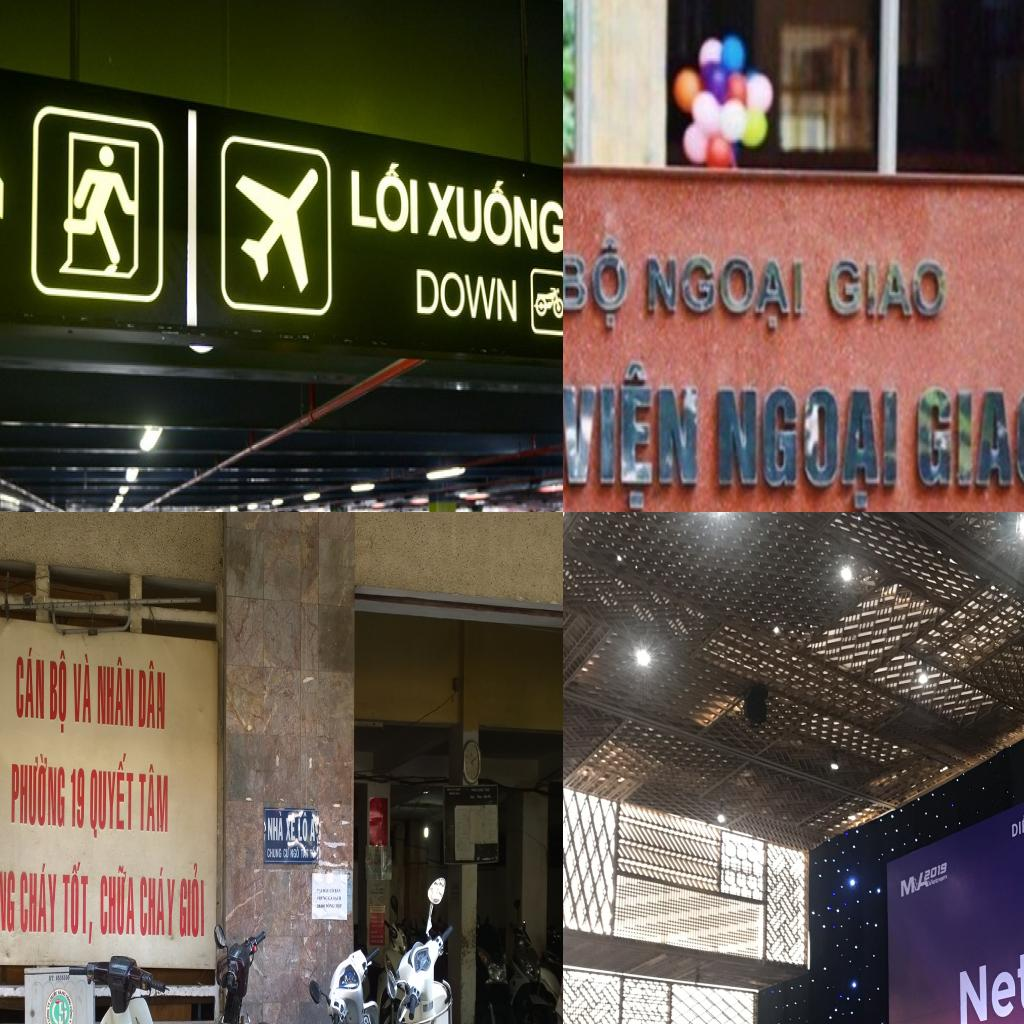text: (713, 381, 904, 512), (563, 357, 702, 512), (642, 249, 810, 338), (909, 383, 1024, 495), (426, 165, 563, 258), (957, 875, 1024, 1024), (821, 254, 950, 326), (563, 229, 630, 333), (350, 151, 420, 238), (416, 266, 519, 324), (9, 747, 67, 836), (89, 748, 136, 841), (19, 859, 58, 939), (60, 859, 94, 948), (96, 654, 134, 732), (140, 862, 177, 942), (98, 862, 136, 937), (14, 643, 48, 722), (137, 762, 171, 837), (136, 658, 166, 738), (49, 646, 69, 739), (72, 649, 92, 733), (0, 856, 16, 938), (68, 761, 86, 832), (900, 868, 930, 900), (924, 860, 948, 883), (267, 810, 284, 842), (1008, 809, 1024, 840), (298, 810, 308, 844), (928, 872, 949, 888), (285, 815, 296, 842), (266, 847, 282, 859), (48, 988, 58, 1004), (310, 817, 316, 843), (290, 846, 300, 859), (300, 846, 309, 860), (56, 974, 71, 982), (65, 992, 73, 1007), (310, 845, 316, 860), (58, 988, 66, 998), (69, 1005, 74, 1021), (283, 846, 289, 859), (46, 1008, 51, 1023), (317, 896, 328, 902), (48, 974, 56, 982), (333, 895, 342, 902), (326, 903, 335, 909), (316, 887, 323, 894), (317, 904, 325, 910), (336, 902, 342, 910), (46, 1000, 51, 1009), (323, 887, 329, 894), (335, 888, 341, 894), (328, 895, 333, 902), (330, 887, 334, 894), (63, 1021, 71, 1024), (334, 903, 336, 909)
